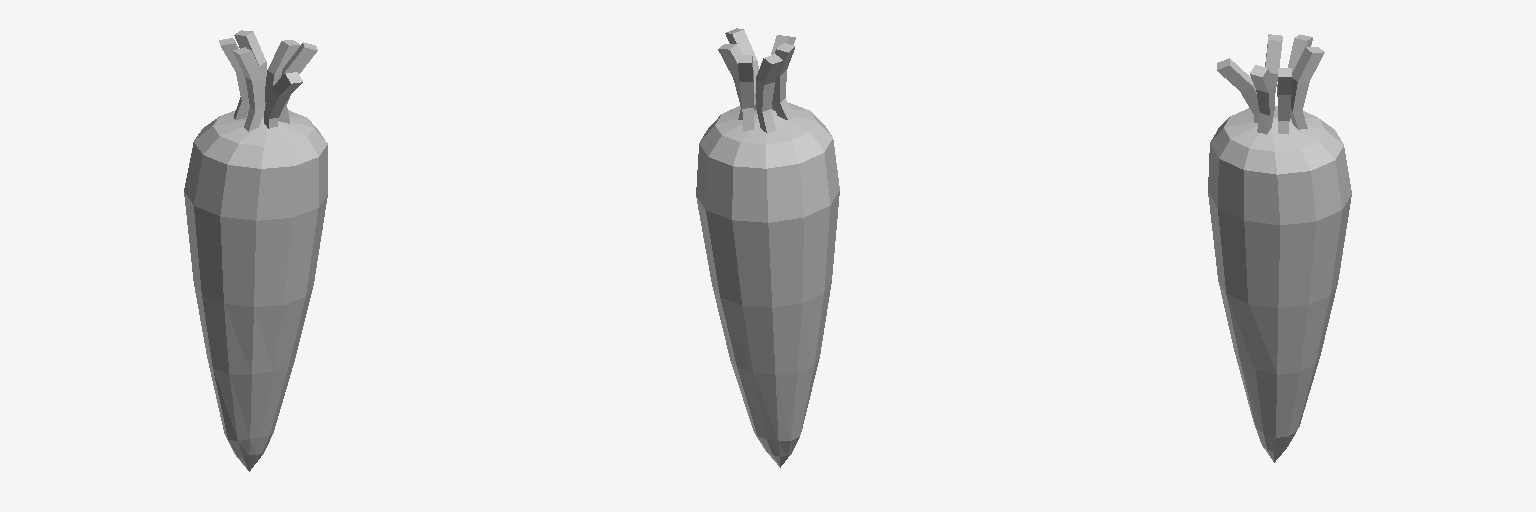
Rendered from carrot.obj.
3 views of the same model, side by side, from view 1: azimuth 30°, elevation 25°; view 2: azimuth 150°, elevation 25°; view 3: azimuth 270°, elevation 25° (orthographic).
Parts seen in each view (by area): view 1: Sphere.015; view 2: Sphere.015; view 3: Sphere.015.
Boxes of the visible parts, x1=… form: Sphere.015: x1=184, y1=30, x2=327, y2=471; Sphere.015: x1=696, y1=28, x2=839, y2=467; Sphere.015: x1=1208, y1=34, x2=1351, y2=462.
Size of the model in its own units: 0.8871 by 2.87 by 0.8875.